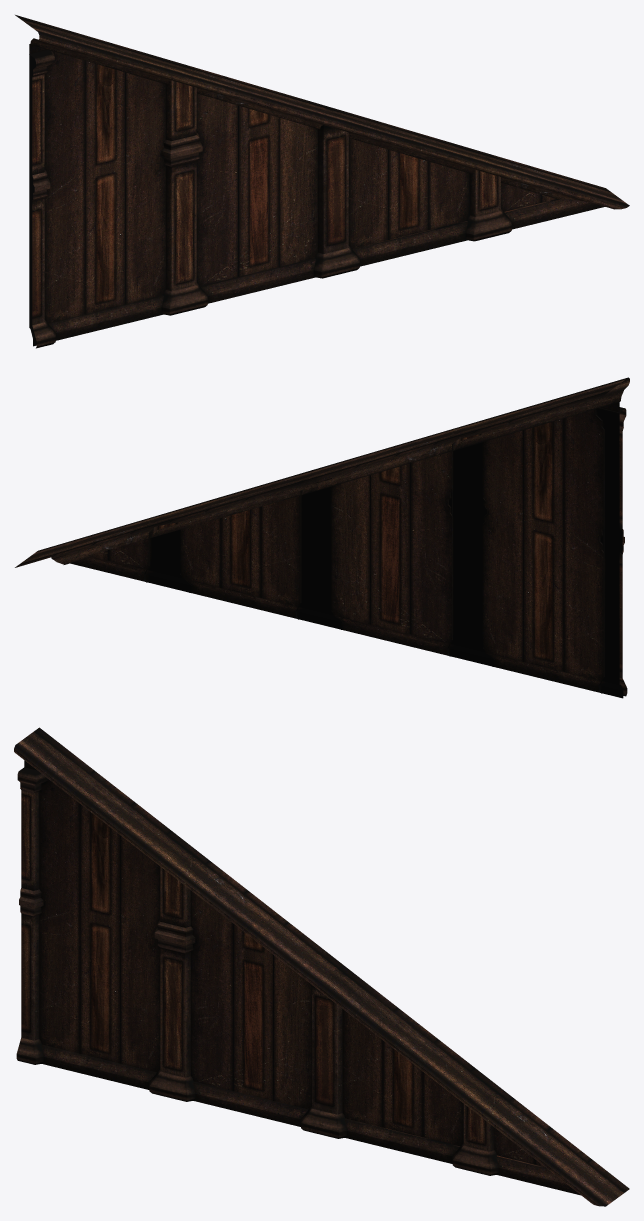
The model's file is default02_stairs.DAE.
The picture shows the model from 3 angles, top to bottom: view 1: azimuth 30°, elevation 25°; view 2: azimuth 150°, elevation 25°; view 3: azimuth 330°, elevation 25°; orthographic projection.
Visible parts, largest first — view 1: default028; view 2: default028; view 3: default028.
Boxes of the visible parts, x1,y1,x2,y2 form: default028: [15, 15, 629, 348]; default028: [15, 377, 629, 698]; default028: [14, 727, 629, 1206].
Bounding box in the file's own units: 7.79 × 4 × 0.5804.
